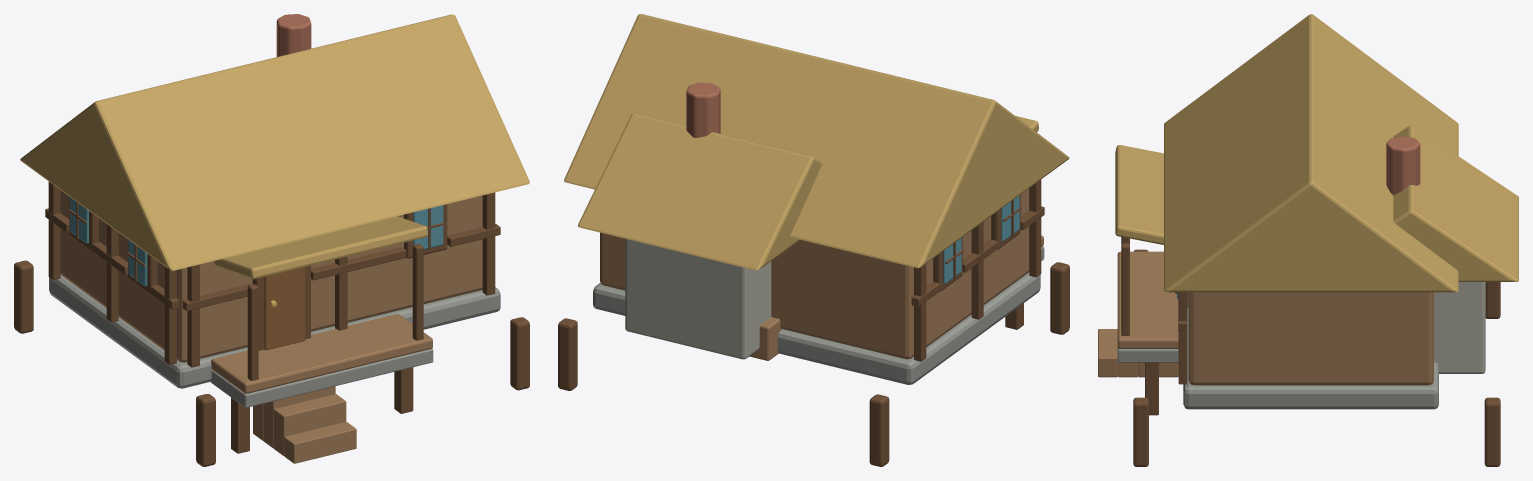
The model's file is wetland-farmstead-3.glb.
3 renders of one model, left to right at view 1: azimuth 30°, elevation 25°; view 2: azimuth 150°, elevation 25°; view 3: azimuth 270°, elevation 25°, orthographic. The views are drawn at different scales.
Parts seen in each view (by area): view 1: Golden thatch, Aged oak, Dark beams, Foundation stone, Door oak, Blue glass, Chimney brick; view 2: Golden thatch, Aged oak, Fieldstone, Dark beams, Foundation stone, Chimney brick, Blue glass; view 3: Golden thatch, Aged oak, Foundation stone, Dark beams, Fieldstone, Chimney brick.
Boxes of the visible parts, x1,y1,x2,y2 form: Golden thatch: (20,14,529,279); Aged oak: (60,190,482,463); Dark beams: (14,181,529,466); Foundation stone: (49,275,500,407); Door oak: (264,267,305,350); Blue glass: (70,197,443,286); Chimney brick: (276,14,311,56); Golden thatch: (564,14,1069,270); Aged oak: (600,188,1043,360); Fieldstone: (625,239,771,359); Dark beams: (558,180,1069,466); Foundation stone: (593,246,1044,384); Chimney brick: (686,82,720,137); Blue glass: (943,195,1019,283); Golden thatch: (1115,14,1518,292); Aged oak: (1098,251,1433,385); Foundation stone: (1117,292,1438,409); Dark beams: (1121,237,1500,466); Fieldstone: (1434,282,1485,373); Chimney brick: (1386,136,1420,195).
Size of the model in its own units: 4.6 by 3.69 by 4.81.
